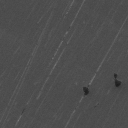corrosion: (82, 85, 91, 97), (115, 80, 122, 88), (113, 73, 119, 80)
